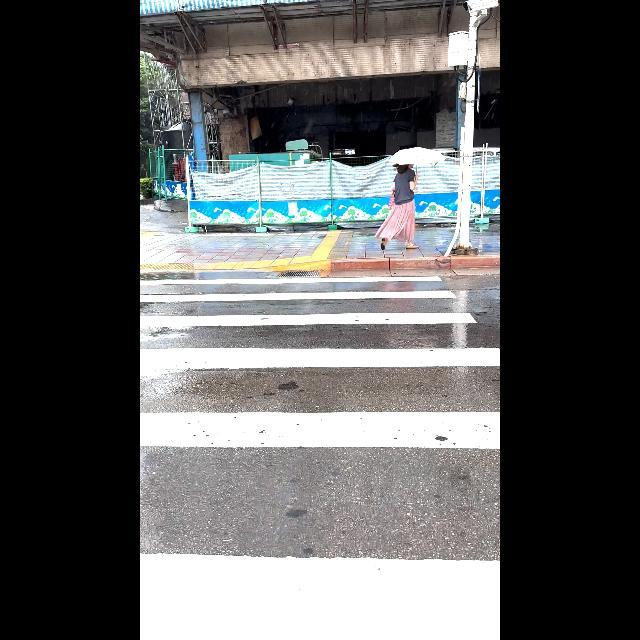sidewalk: (140, 268, 500, 640)
